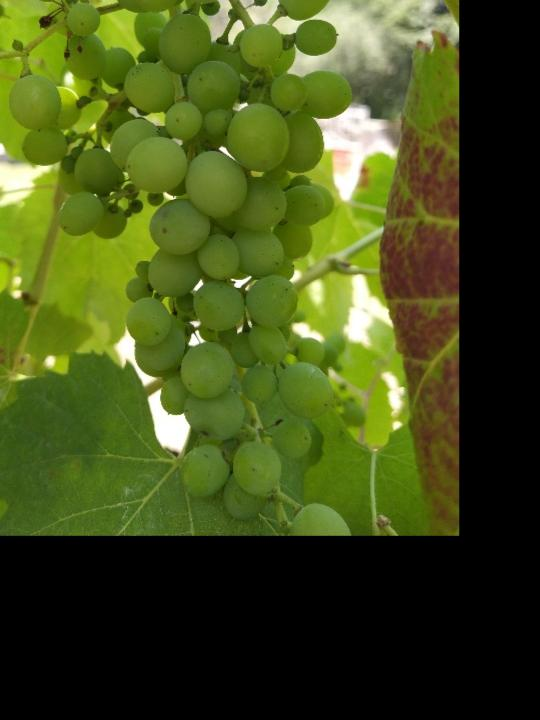grape: (0, 0, 355, 532)
